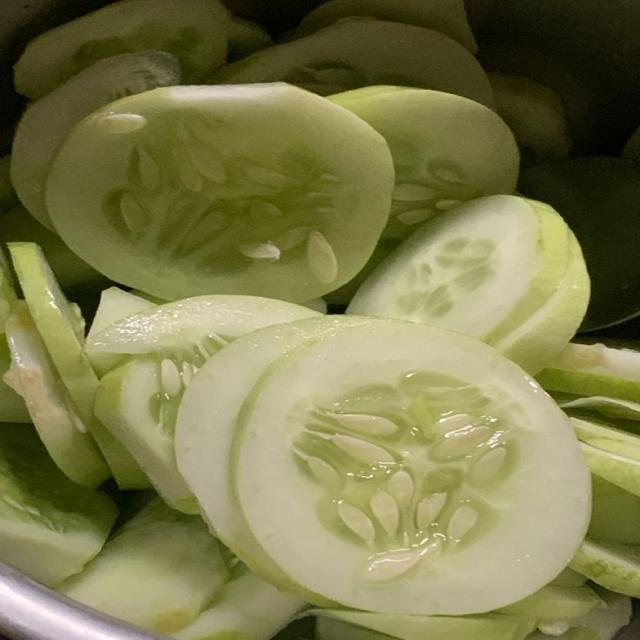cucumber sliced: (232, 321, 590, 615), (47, 84, 393, 302), (175, 316, 372, 583), (92, 296, 319, 512), (347, 196, 587, 372), (9, 243, 149, 488), (11, 51, 180, 229), (330, 87, 519, 241), (212, 19, 493, 106), (58, 499, 228, 634), (14, 0, 230, 99), (520, 158, 639, 330), (6, 301, 110, 486), (0, 425, 116, 585), (87, 295, 319, 364), (493, 232, 590, 373), (479, 39, 601, 150), (296, 0, 477, 53), (0, 207, 108, 294), (174, 569, 305, 639), (488, 72, 572, 164), (309, 610, 535, 639), (537, 342, 639, 402), (86, 287, 155, 375), (0, 248, 31, 423), (571, 418, 639, 495), (500, 585, 604, 623), (571, 540, 639, 597), (87, 287, 155, 343), (587, 475, 639, 544), (572, 587, 632, 639), (556, 396, 639, 433), (0, 333, 32, 423), (227, 17, 273, 61), (315, 616, 396, 639), (0, 246, 16, 333), (0, 156, 19, 215), (623, 128, 639, 162), (304, 298, 327, 313)
